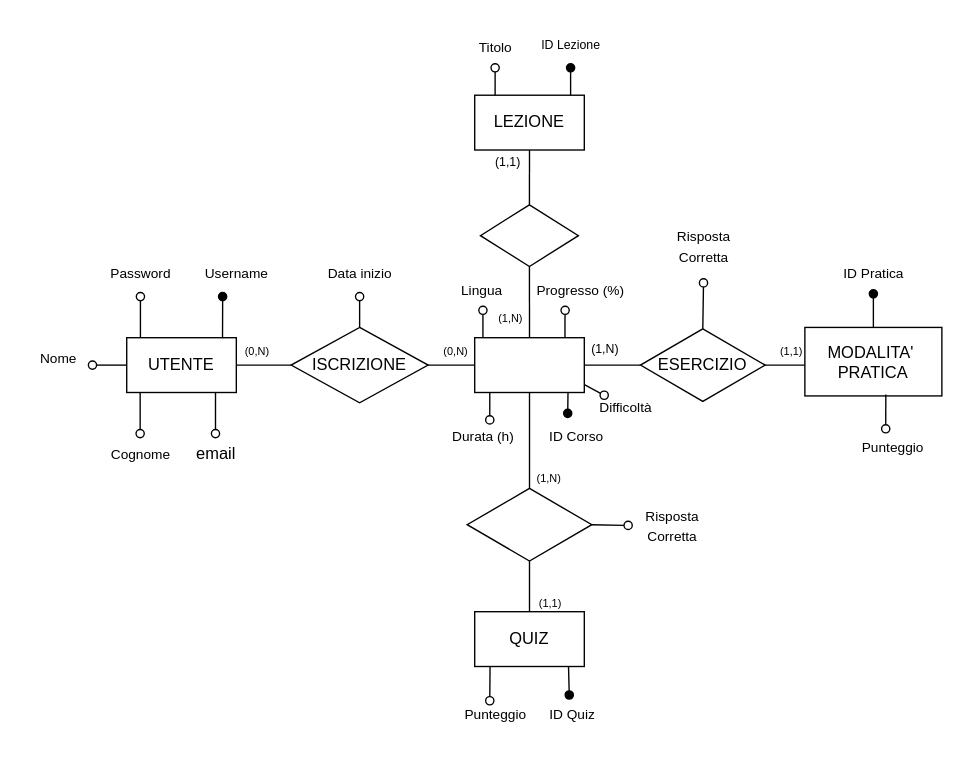
Some shapes in this 966 by 758 pixel diagram are drawn without their labels. Here are the shapes that lost their labels. From the top down, the box of each, then its label:
(479, 203, 578, 266): UNITA'
(473, 336, 584, 393): CORSO
(466, 487, 592, 561): DOMANDA
